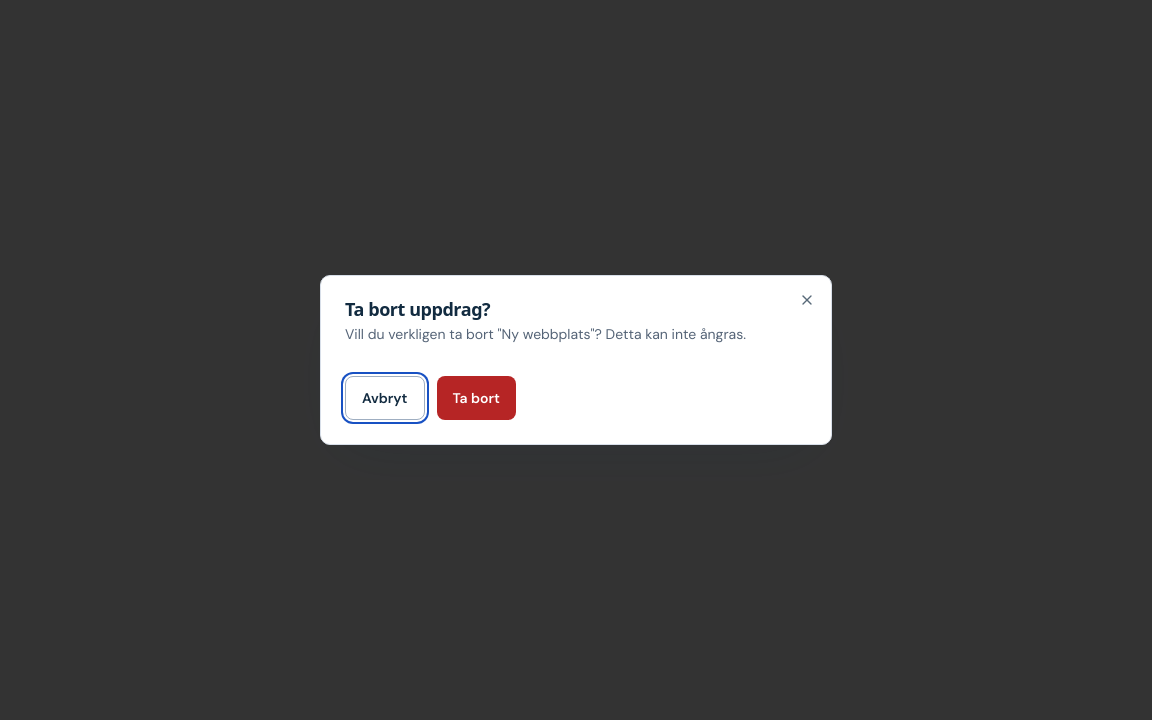
Test: removing a buyer project › switches to closing when the database refuses because an agency unlocked
What coordinates should you click on to do the following:
click the button "Ta bort"
I would click on:
 (476, 398)
Its box is [436,376,516,420].
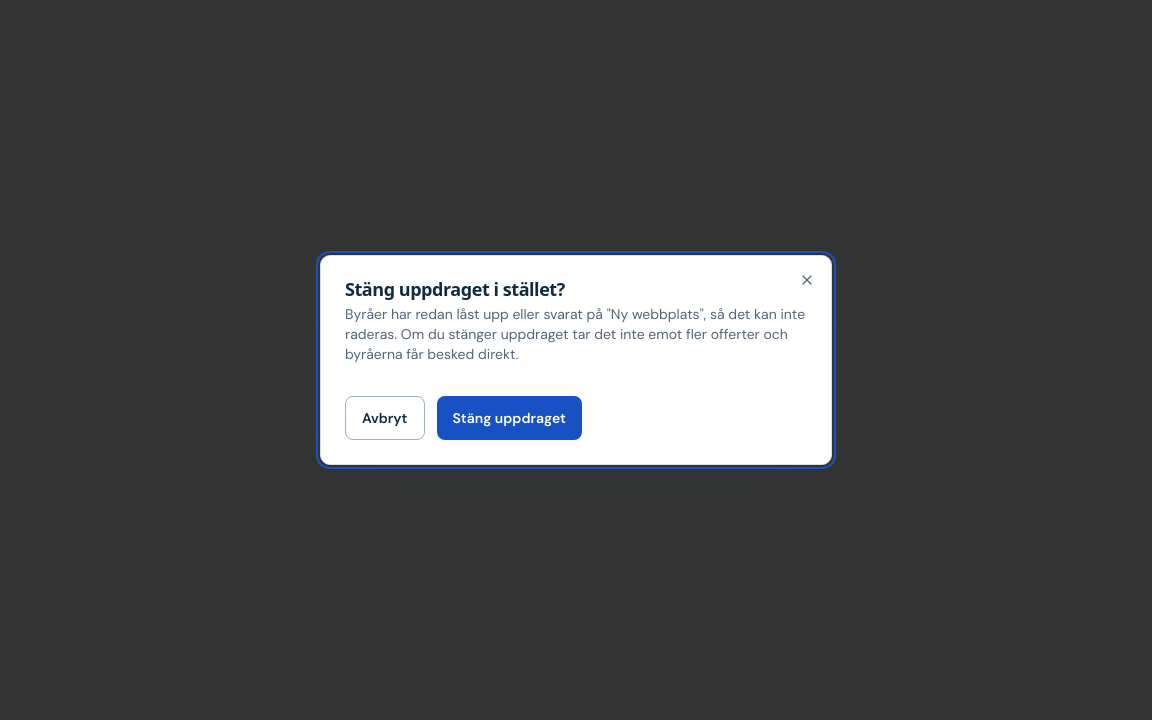
Expected: the heading "Stäng uppdraget i stället?" is shown, [345,277,565,301]
